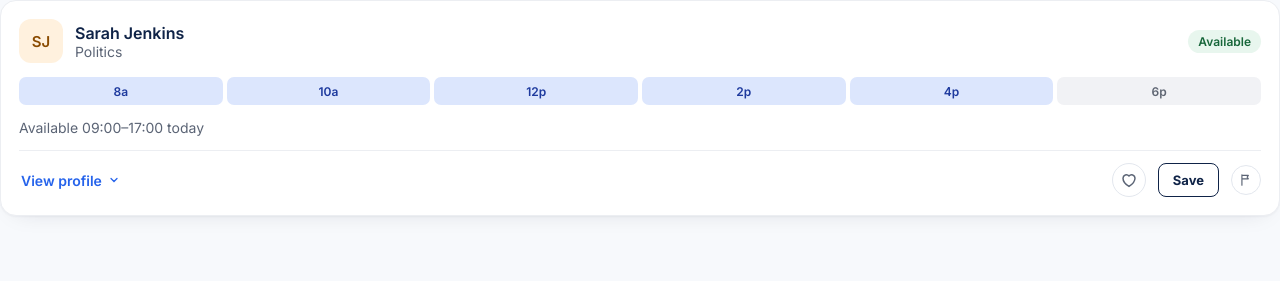
TalentCard › says so when there is nothing more to show
The width and height of the screenshot is (1280, 281).
What coordinates should you click on to do the following:
click the button "View profile"
I would click on:
 (70, 180)
Its box is [19,168,122,192].
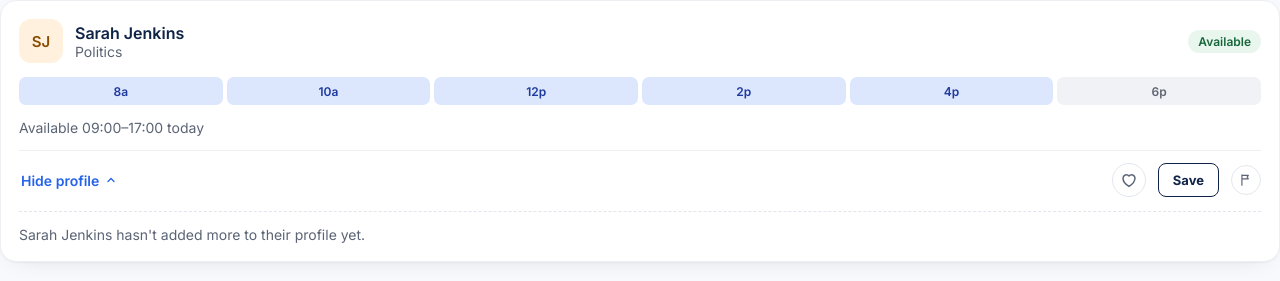
Result: the text "Sarah Jenkins hasn't added more to their profile yet." is shown at [19,226,365,243]
